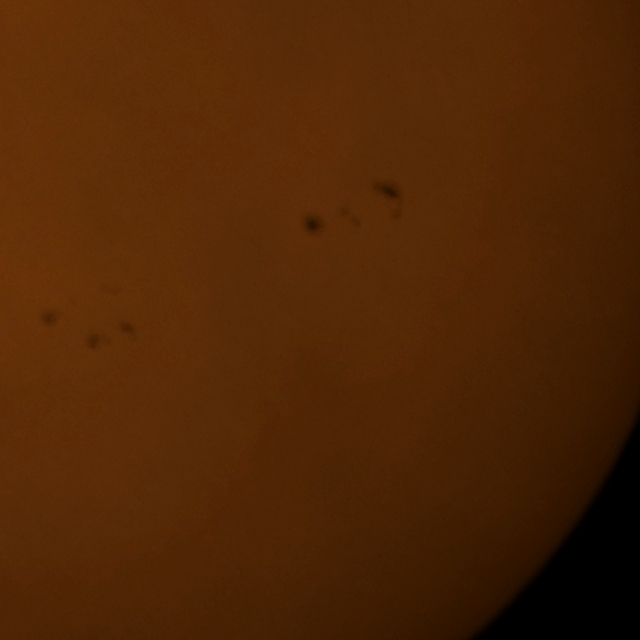sunspot: (303, 213, 328, 238), (39, 310, 59, 328)
